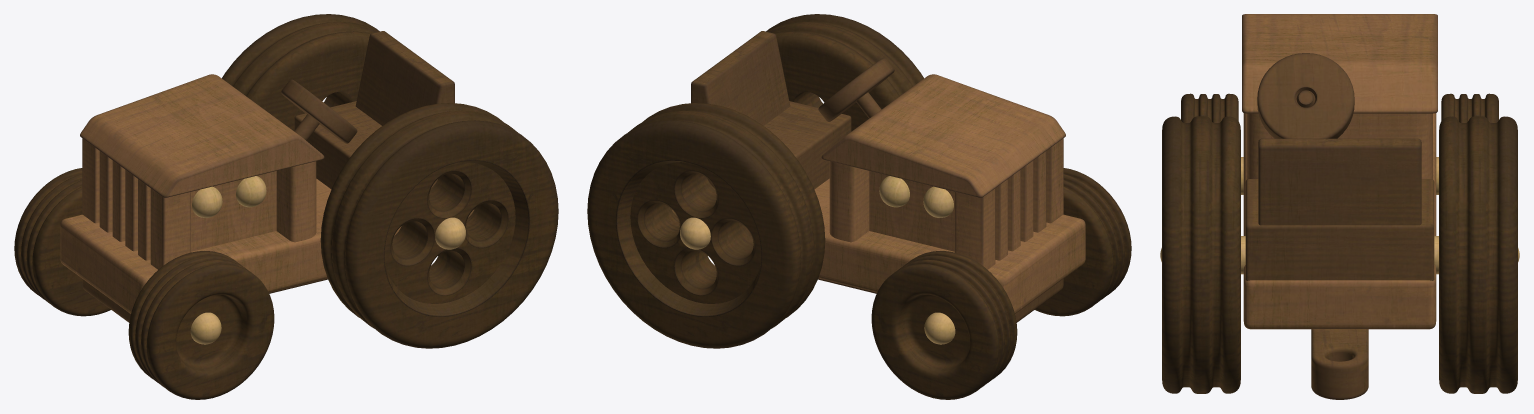
The model's file is wooden_tractor_toy_1.obj.
3 renders of one model, left to right at view 1: azimuth 30°, elevation 25°; view 2: azimuth 150°, elevation 25°; view 3: azimuth 270°, elevation 25°, orthographic. The views are drawn at different scales.
Parts seen in each view (by area): view 1: wooden_tractor_toy_1; view 2: wooden_tractor_toy_1; view 3: wooden_tractor_toy_1.
Boxes of the visible parts, box(x1,y1,x2,y2) form: wooden_tractor_toy_1: box(14, 14, 558, 399); wooden_tractor_toy_1: box(587, 14, 1131, 399); wooden_tractor_toy_1: box(1160, 14, 1519, 399).
Bounding box in the file's own units: 17.62 × 9.99 × 11.83.
1 material, 1 textured.
